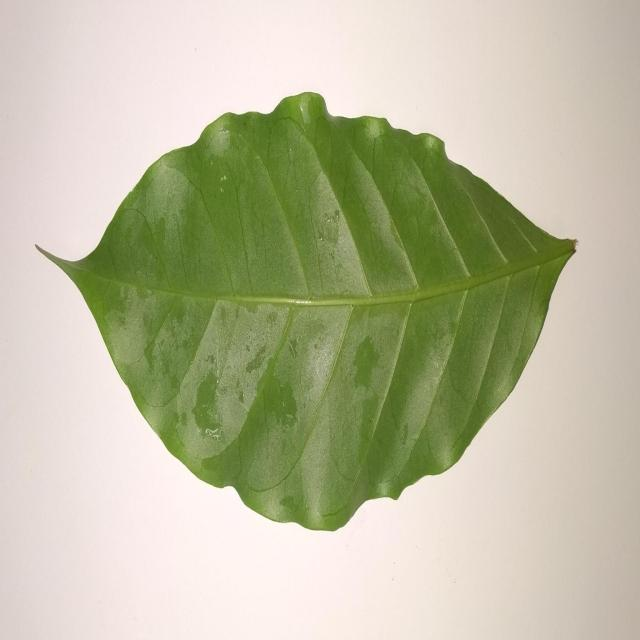Sanas: (36, 92, 578, 535)
